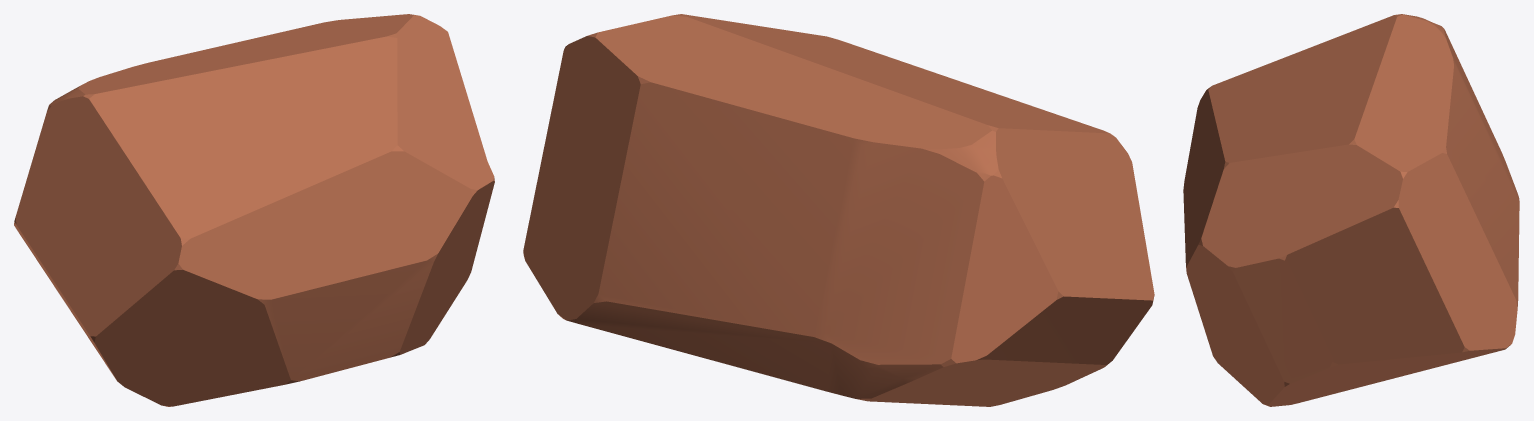
File: Rock_01.fbx
3 views of the same model, side by side, from view 1: azimuth 30°, elevation 25°; view 2: azimuth 150°, elevation 25°; view 3: azimuth 270°, elevation 25° (orthographic). The views are drawn at different scales.
Visible parts, largest first — view 1: Rock_01; view 2: Rock_01; view 3: Rock_01.
Boxes of the visible parts, left/top/right/bottom form: Rock_01: left=14, top=14, right=494, bottom=406; Rock_01: left=523, top=14, right=1154, bottom=406; Rock_01: left=1183, top=14, right=1519, bottom=406.
Bounding box in the file's own units: 416 × 271 × 291.
